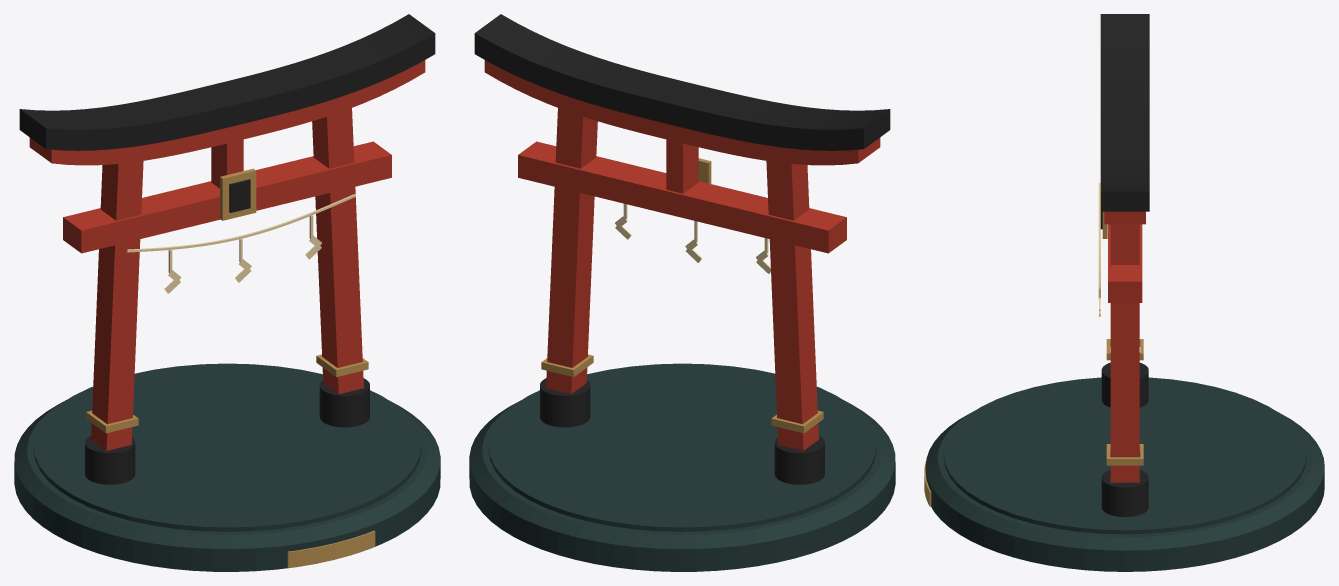
Rendered from japan.glb.
3 views of the same model, side by side, from view 1: azimuth 30°, elevation 25°; view 2: azimuth 150°, elevation 25°; view 3: azimuth 270°, elevation 25° (orthographic). The views are drawn at different scales.
Visible parts, largest first — view 1: Vermilion torii; view 2: Vermilion torii; view 3: Vermilion torii.
Boxes of the visible parts, <box> form: Vermilion torii: <box>14,14,440,571</box>; Vermilion torii: <box>469,14,895,571</box>; Vermilion torii: <box>924,14,1324,571</box>.
Size of the model in its own units: 2.72 by 2.8 by 2.59.
